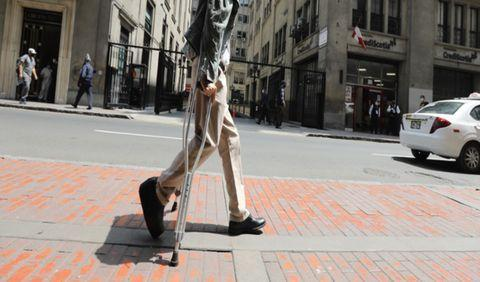crutches: (150, 1, 260, 266)
